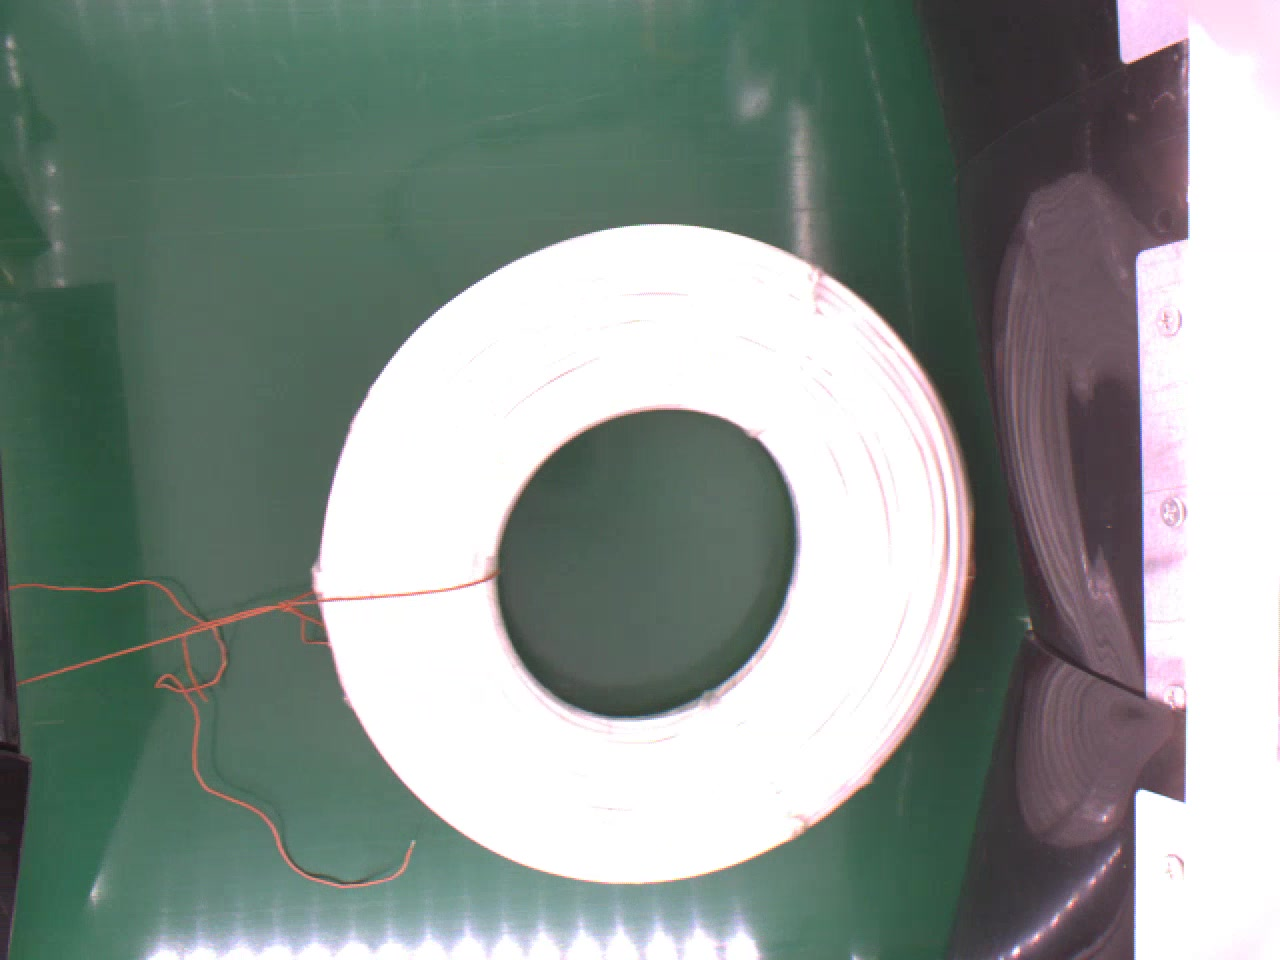white: (311, 209, 977, 887)
